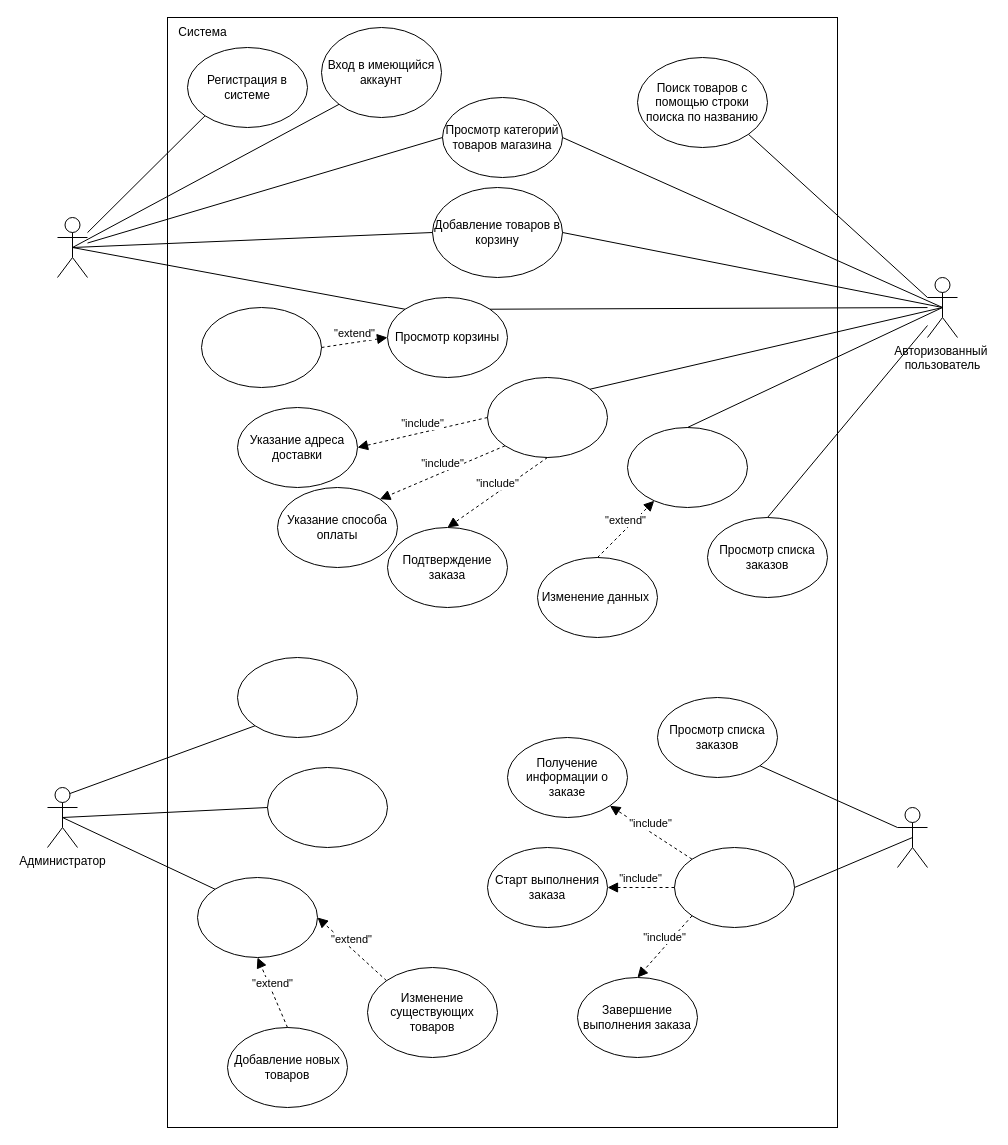
Image size: 1008x1145. Some labels were removed from this diagram. Here are the shapes that lost their labels. From the top down, the centre of each, then its label:
the point at 72,247: Неавторизованный пользователь
the point at 261,347: Очистка корзины
the point at 547,417: Оформление заказа
the point at 687,467: Просмотр данных своего аккаунта
the point at 297,697: Запись заказов курьеру
the point at 327,807: Изменение ролей пользователей
the point at 912,837: Курьер
the point at 734,887: Выбор заказа
the point at 257,917: Управление информацией о товарах и категориях
